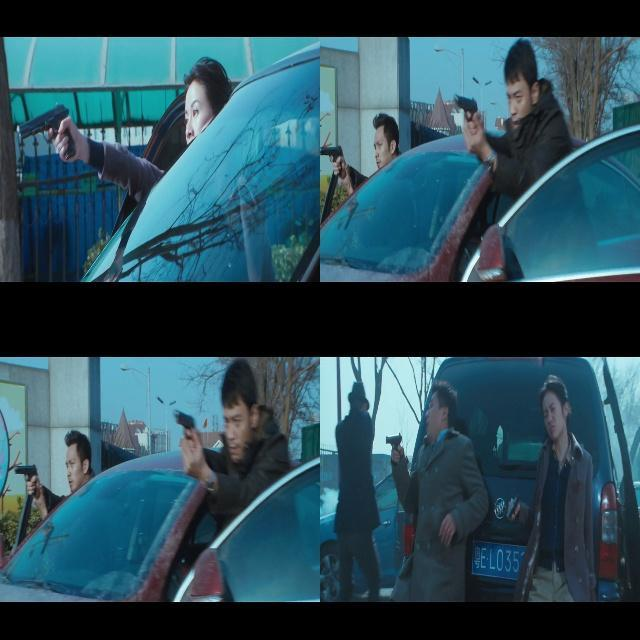gun-knife-thesis - v11 Yolov5 augmented: (15, 98, 76, 162), (450, 87, 480, 146), (171, 401, 198, 463), (11, 458, 38, 495), (319, 137, 345, 175), (382, 427, 403, 463), (503, 494, 519, 521)
